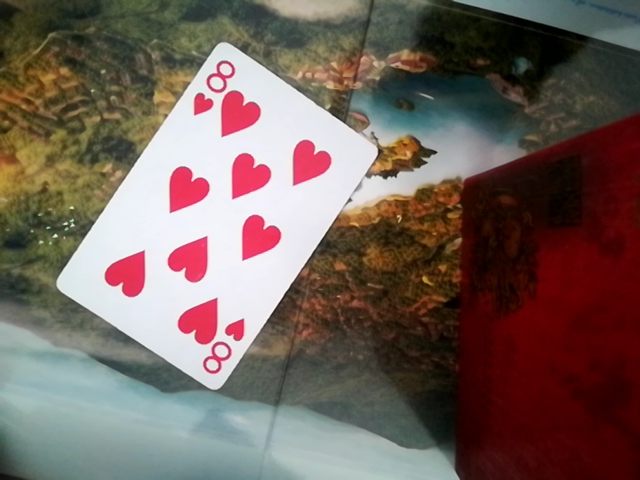hx 8: (56, 37, 378, 397)
